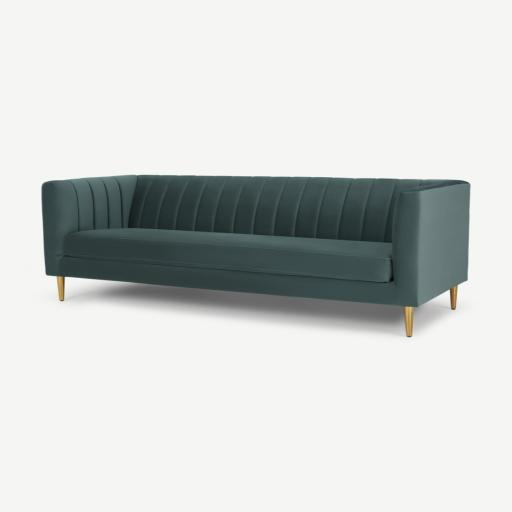back_cushion: (130, 176, 432, 242)
base: (63, 257, 396, 304)
left_arm: (393, 184, 469, 306)
legs: (404, 307, 413, 337), (57, 277, 65, 301), (451, 287, 456, 305)
right_arm: (42, 175, 137, 275)
seat_cushion: (65, 229, 393, 282)
two-seater: (0, 0, 511, 512)
